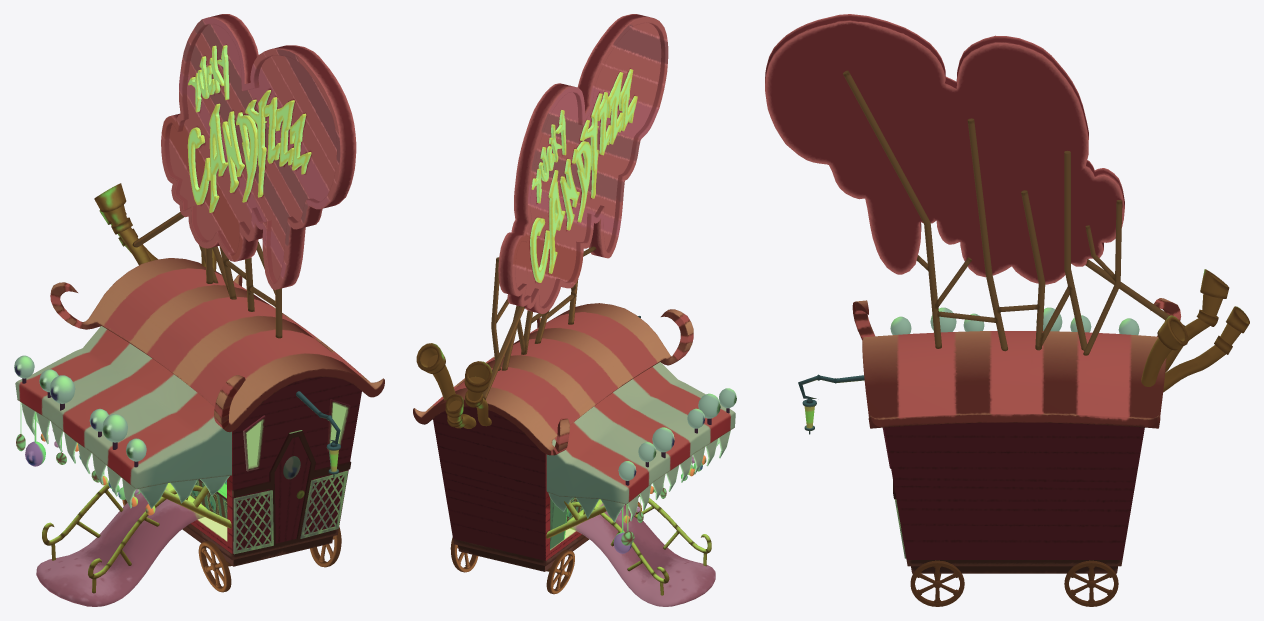
The picture shows the model from 3 angles, left to right: view 1: azimuth 30°, elevation 25°; view 2: azimuth 150°, elevation 25°; view 3: azimuth 270°, elevation 25°; orthographic projection. The views are drawn at different scales.
Visible parts, largest first — view 1: Roulotte_Material #4_0; view 2: Roulotte_Material #4_0; view 3: Roulotte_Material #4_0.
Boxes of the visible parts, x1,y1,x2,y2 form: Roulotte_Material #4_0: (14, 14, 384, 606); Roulotte_Material #4_0: (413, 14, 736, 606); Roulotte_Material #4_0: (765, 14, 1249, 606).
Bounding box in the file's own units: 3.85 × 7.71 × 6.05.
Materials: 1 (1 with a texture image).
